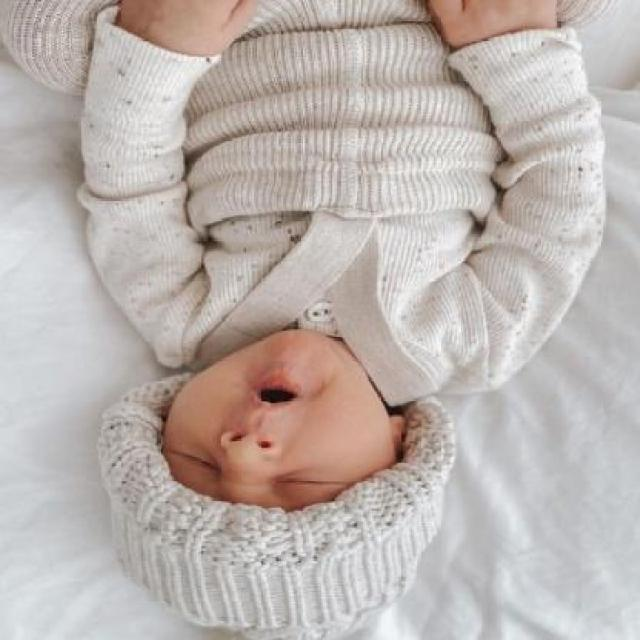baby: (78, 2, 604, 630)
